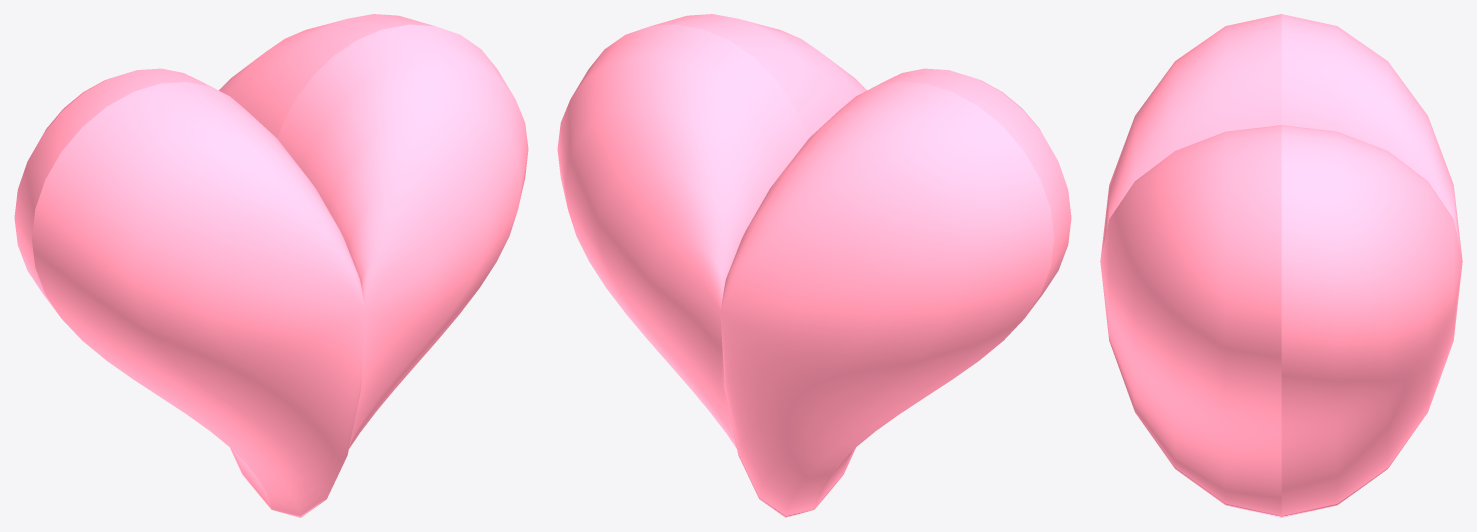
The picture shows the model from 3 angles, left to right: view 1: azimuth 30°, elevation 25°; view 2: azimuth 150°, elevation 25°; view 3: azimuth 270°, elevation 25°; orthographic projection. The views are drawn at different scales.
Bounding box in the file's own units: 0.9412 × 0.8503 × 0.64.
